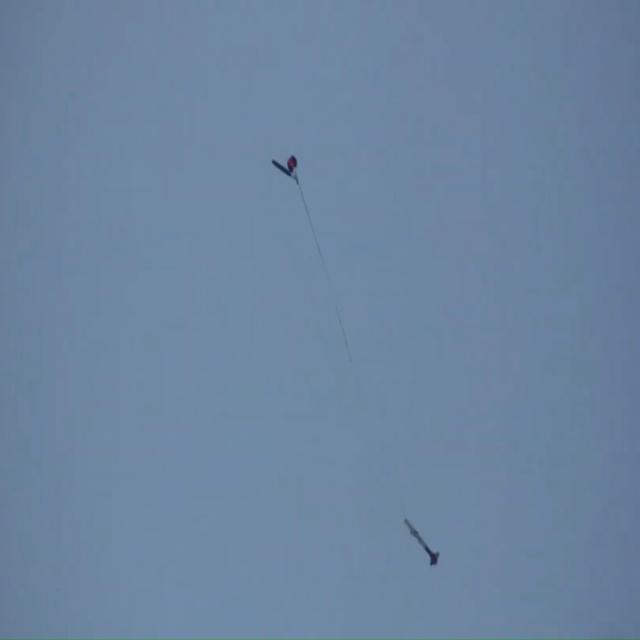Rocket: (404, 515, 441, 565)
